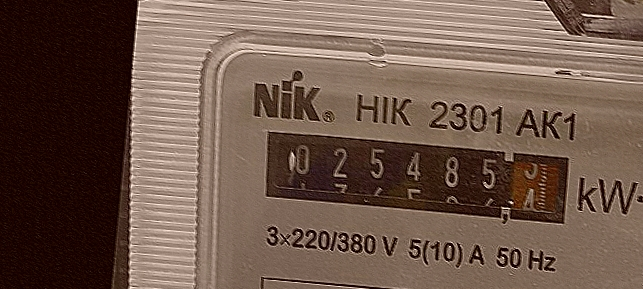0: (289, 140, 313, 177)
2: (328, 143, 351, 180)
4: (401, 147, 425, 183), (518, 184, 539, 214)
5: (475, 154, 500, 193), (364, 144, 387, 180)
8: (439, 151, 463, 190)
screen: (251, 121, 579, 236)
